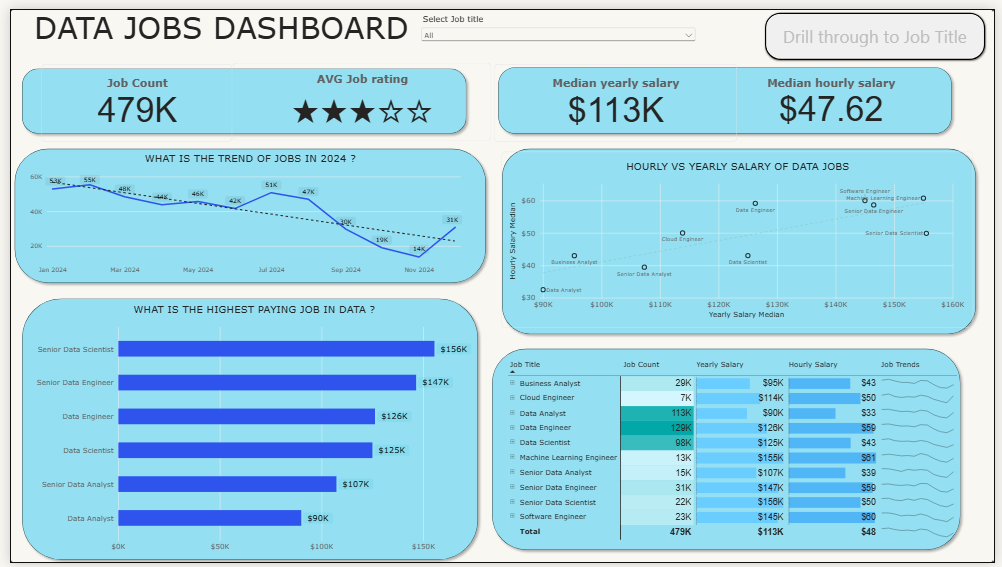

This screenshot's page, from the dashboard's own definition file:
{"tool":"powerbi","page":{"name":"Data jobs Dashboard","canvas":[1920,1080],"ordinal":0},"visuals":[{"type":"group","id":"g1","title":"Background","box":[0,104.3,1892.9,976.7],"z":0},{"type":"shape","box":[15,106.8,885,145],"z":0,"group":"g1"},{"type":"textbox","box":[10.9,0,805.3,97.7],"z":1000},{"type":"shape","box":[945,104.3,902.5,147.5],"z":1000,"group":"g1"},{"type":"slicer","fields":{"Values":["job_postings_flat.job_title_short"]},"box":[798.1,10.9,544.7,86.9],"z":2000},{"type":"shape","box":[931,652.4,932,410.8],"z":2000,"group":"g1"},{"type":"cardVisual","fields":{"Data":["CountNonNull(job_postings_flat.job_title_short)"]},"box":[60.5,106.4,373.6,152.3],"z":3000},{"type":"shape","box":[0,261.8,937.5,280],"z":3000,"group":"g1"},{"type":"cardVisual","fields":{"Data":["job_postings_flat.Salary star rating "]},"box":[435,105,505,152.5],"z":4000},{"type":"shape","box":[950,261.8,942.5,380],"z":4000,"group":"g1"},{"type":"cardVisual","fields":{"Data":["Median(job_postings_flat.salary_year_avg)"]},"box":[945,107.5,475,152.5],"z":5000},{"type":"shape","box":[15,554.3,907.5,527.5],"z":5000,"group":"g1"},{"type":"cardVisual","fields":{"Data":["Median(job_postings_flat.salary_hour_avg)"]},"box":[1381.6,108.5,444.5,152.3],"z":6000},{"type":"lineChart","title":"WHAT IS THE TREND OF JOBS IN 2024 ?","fields":{"Category":["job_postings_flat.job_posted_date.Variation.Date Hierarchy.Year","job_postings_flat.job_posted_date.Variation.Date Hierarchy.Quarter","job_postings_flat.job_posted_date.Variation.Date Hierarchy.Month","job_postings_flat.job_posted_date.Variation.Date Hierarchy.Day"],"Y":["CountNonNull(job_postings_flat.job_title_short)"]},"box":[39.7,260.9,870.3,260.9],"z":7000},{"type":"barChart","title":"WHAT IS THE HIGHEST PAYING JOB IN DATA ?","fields":{"Category":["job_postings_flat.job_title_short"],"Y":["Median(job_postings_flat.salary_year_avg)"]},"box":[35,572.5,885,490],"z":8000},{"type":"pivotTable","fields":{"Rows":["job_postings_flat.job_title_short","job_postings_flat.job_posted_date.Variation.Date Hierarchy.Quarter"],"Values":["CountNonNull(job_postings_flat.job_title_short)","Median(job_postings_flat.salary_year_avg)","Median(job_postings_flat.salary_hour_avg)","SparklineData(CountNonNull(job_postings_flat.job_title_short)_[job_postings_flat.job_posted_date.Variation.Date Hierarch"]},"box":[970,680,910,382.5],"z":9000},{"type":"scatterChart","title":"HOURLY VS YEARLY SALARY OF DATA JOBS ","fields":{"Series":["job_postings_flat.job_title_short"],"X":["Median(job_postings_flat.salary_year_avg)"],"Y":["Median(job_postings_flat.salary_hour_avg)"]},"box":[960,252.5,920,370],"z":10000},{"type":"actionButton","box":[1473.4,6.3,429.9,91.8],"z":11000}]}

Visuals, with their boxes in screenshot pixels (x1, y1, x2, y2), scaled from the page's 1920x1080 canvas onto the 1002x567 screenshot:
"Background" group: [0,55,988,566]
shape: [8,56,470,132]
textbox: [6,0,426,51]
shape: [493,55,964,132]
slicer - job_postings_flat.job_title_short: [417,6,701,51]
shape: [486,343,972,558]
cardVisual - CountNonNull(job_postings_flat.job_title_short): [32,56,227,136]
shape: [0,137,489,284]
cardVisual - job_postings_flat.Salary star rating : [227,55,491,135]
shape: [496,137,988,337]
cardVisual - Median(job_postings_flat.salary_year_avg): [493,56,741,136]
shape: [8,291,481,566]
cardVisual - Median(job_postings_flat.salary_hour_avg): [721,57,953,137]
"WHAT IS THE TREND OF JOBS IN 2024 ?" lineChart: [21,137,475,274]
"WHAT IS THE HIGHEST PAYING JOB IN DATA ?" barChart: [18,301,480,558]
pivotTable - job_postings_flat.job_title_short x job_postings_flat.job_posted_date.Variation.Date Hierarchy.Quarter: [506,357,981,558]
"HOURLY VS YEARLY SALARY OF DATA JOBS " scatterChart: [501,133,981,327]
actionButton: [769,3,993,52]
